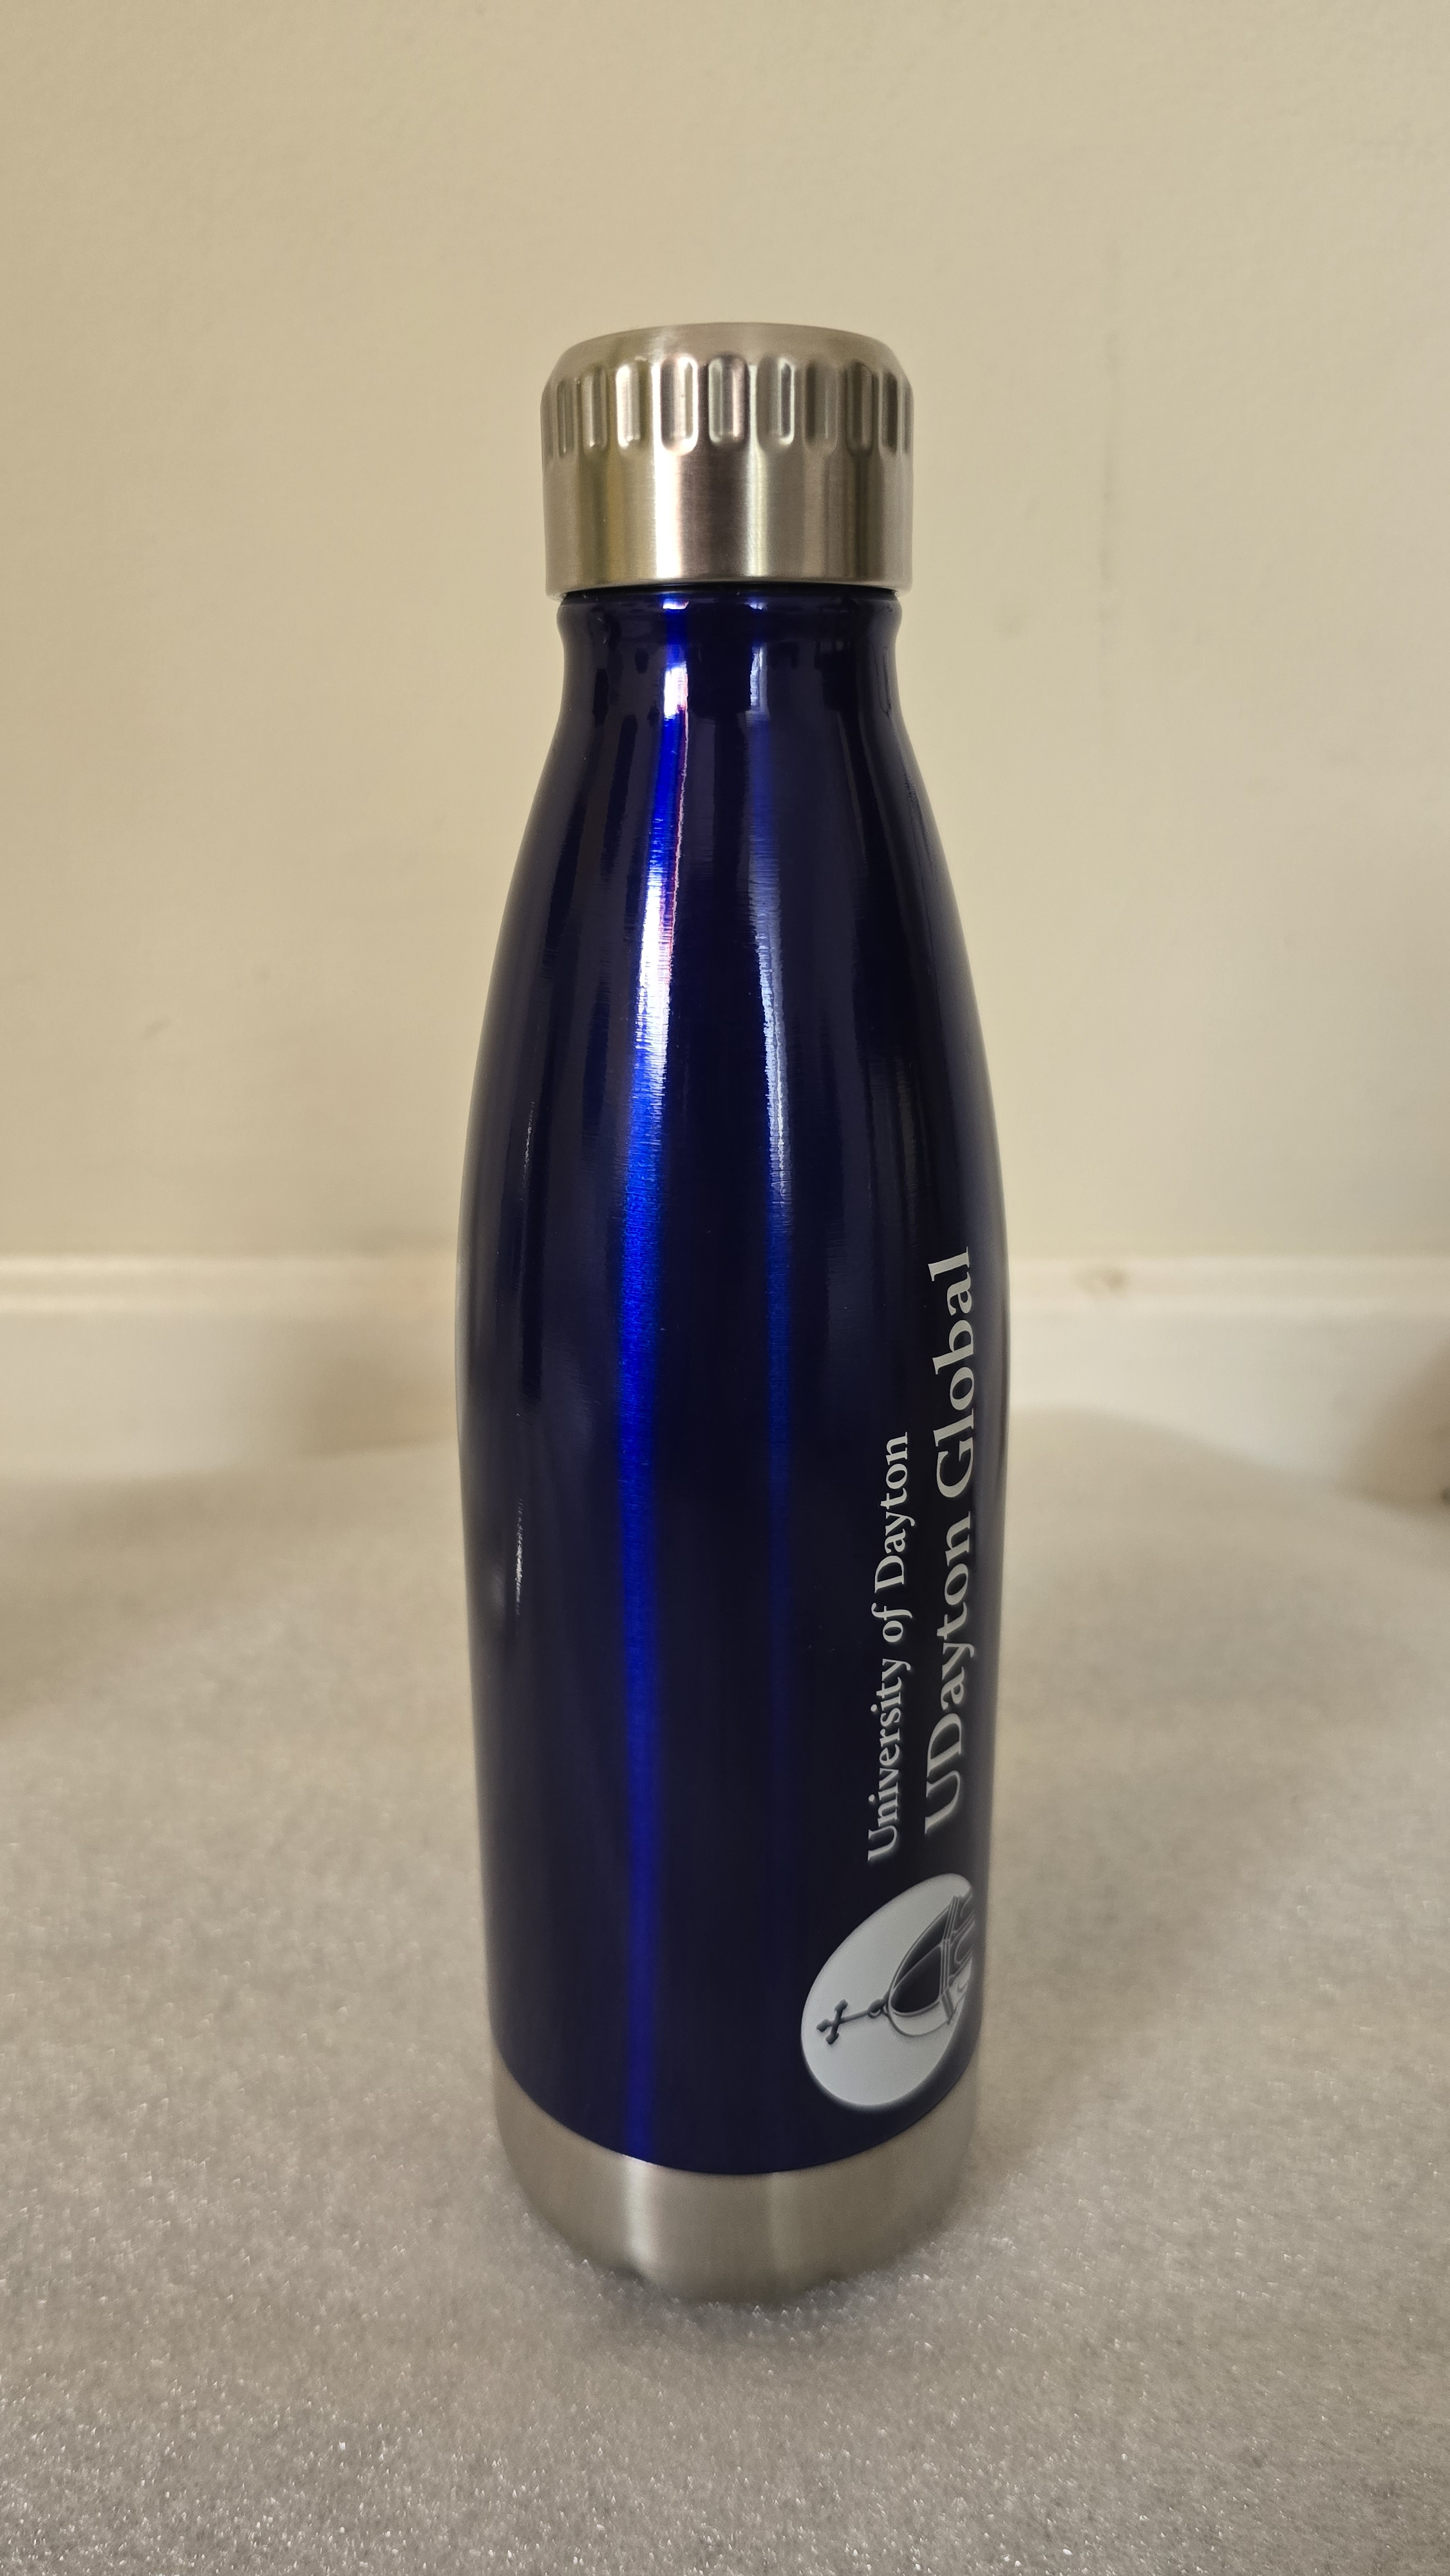bottle: (428, 196, 1026, 2351)
